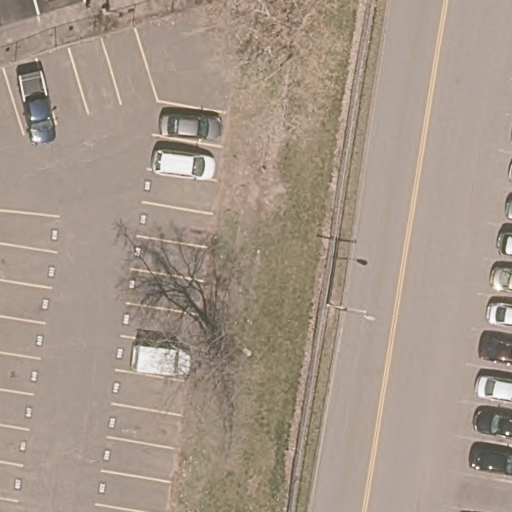DT: (327, 300, 368, 321)
